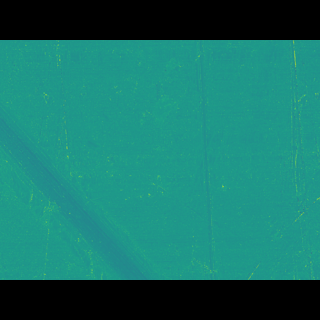Loch: (0, 112, 169, 249), (17, 70, 319, 96), (185, 69, 225, 251)
